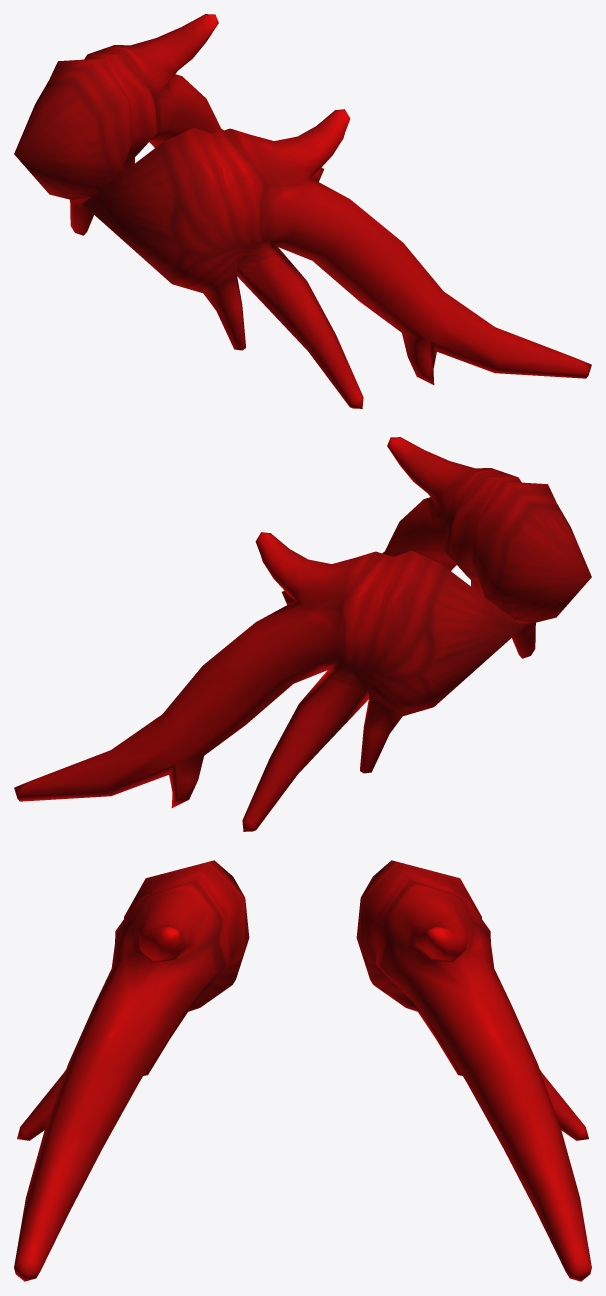
3 views of the same model, one above another, from view 1: azimuth 30°, elevation 25°; view 2: azimuth 150°, elevation 25°; view 3: azimuth 270°, elevation 25° (orthographic). The views are drawn at different scales.
Parts seen in each view (by area): view 1: K1219; view 2: K1219; view 3: K1219.
Boxes of the visible parts, x1,y1,x2,y2 form: K1219: [14, 14, 591, 408]; K1219: [14, 437, 591, 831]; K1219: [14, 860, 591, 1281].
Bounding box in the file's own units: 0.7868 × 0.4771 × 0.9359.
